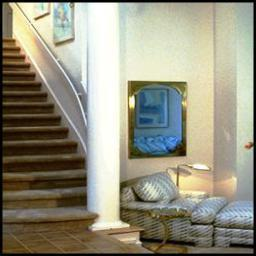Escaleras: (3, 36, 97, 225)
